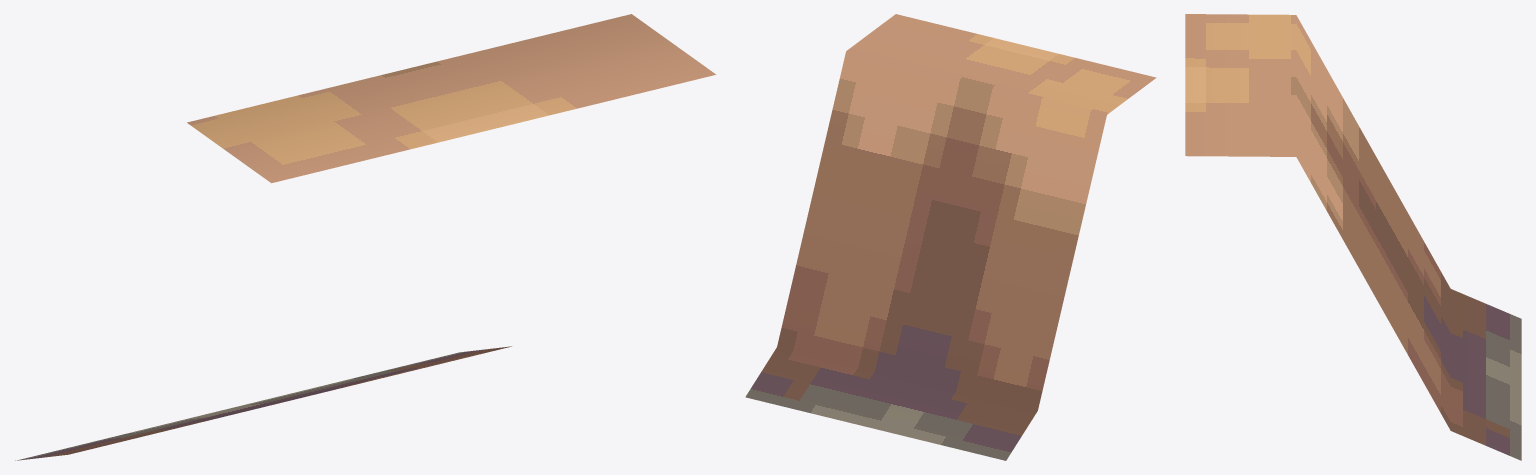
The picture shows the model from 3 angles, left to right: view 1: azimuth 30°, elevation 25°; view 2: azimuth 150°, elevation 25°; view 3: azimuth 270°, elevation 25°; orthographic projection. The views are drawn at different scales.
Size of the model in its own units: 1 by 1 by 1.
Materials: 1 (1 with a texture image).
